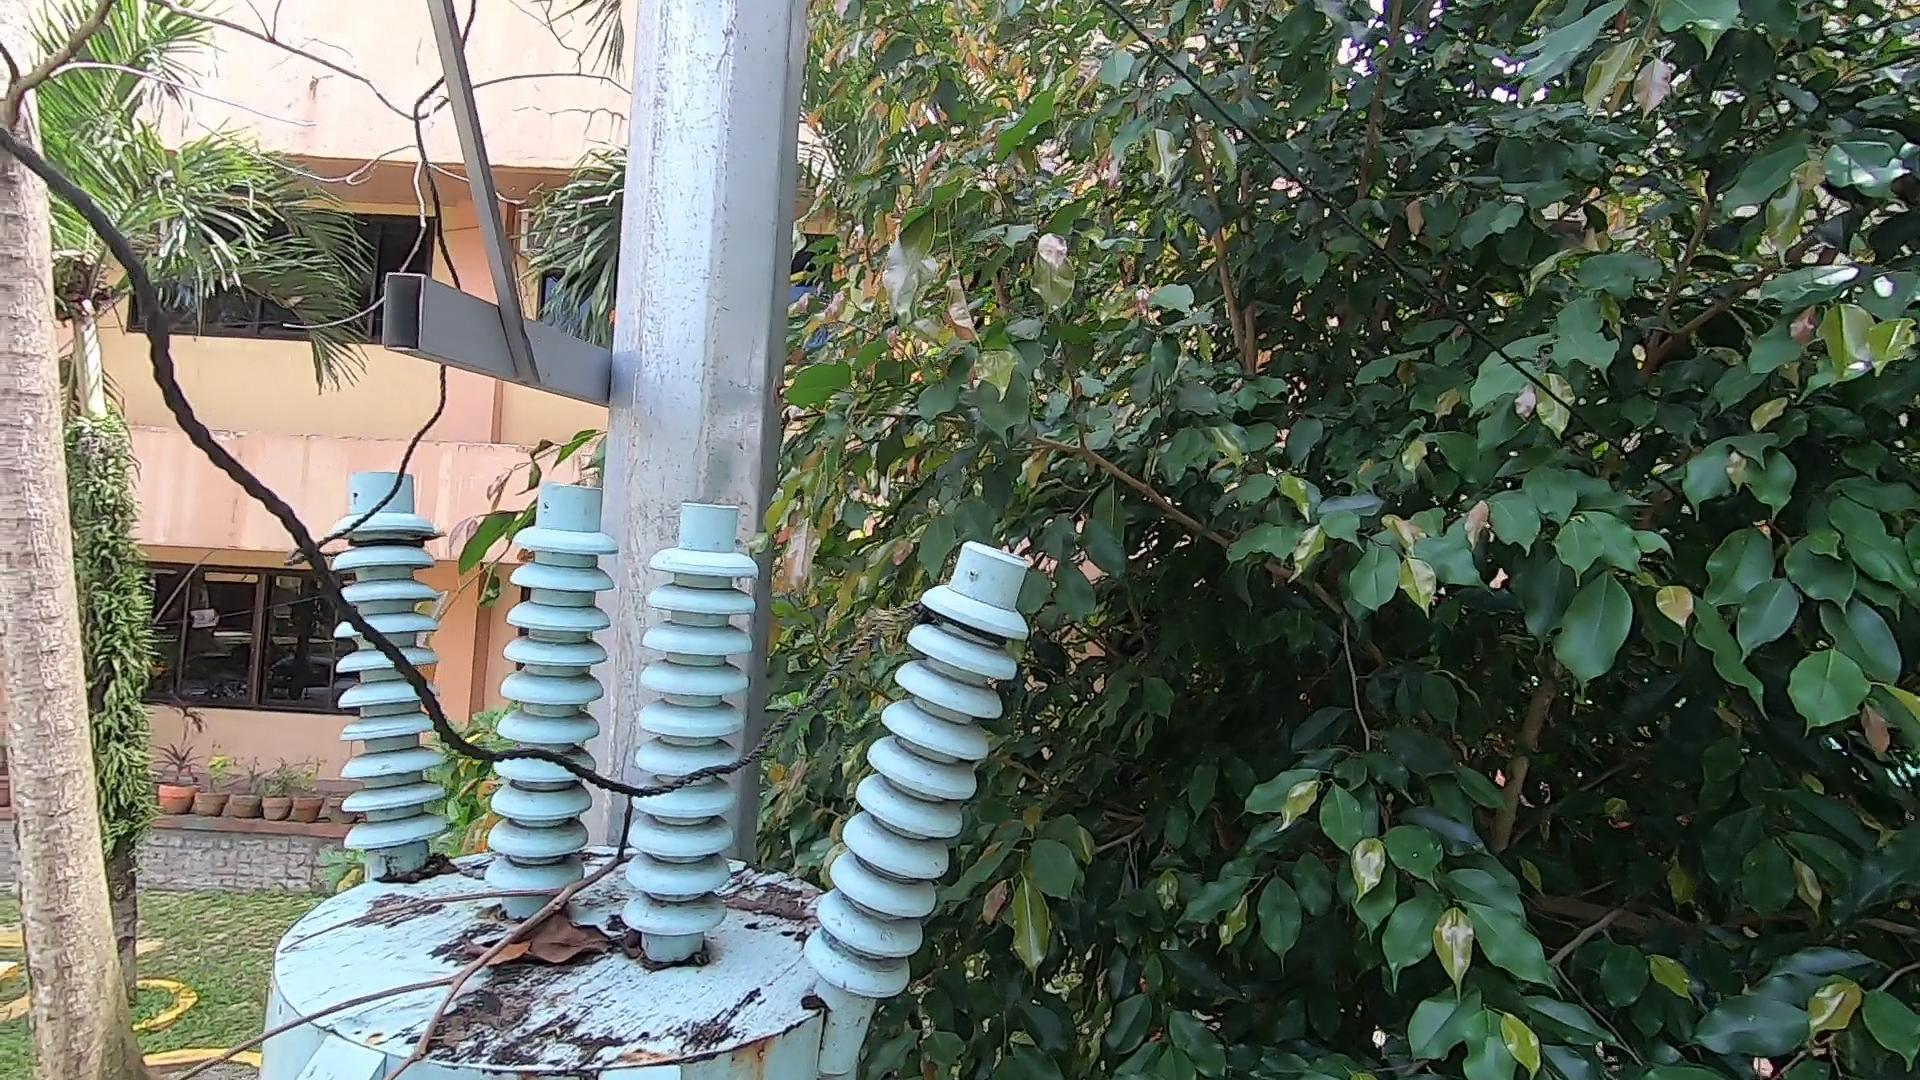leaf: (467, 891, 645, 984), (727, 864, 824, 930), (372, 848, 485, 893)
tree branch: (124, 837, 632, 1080)
